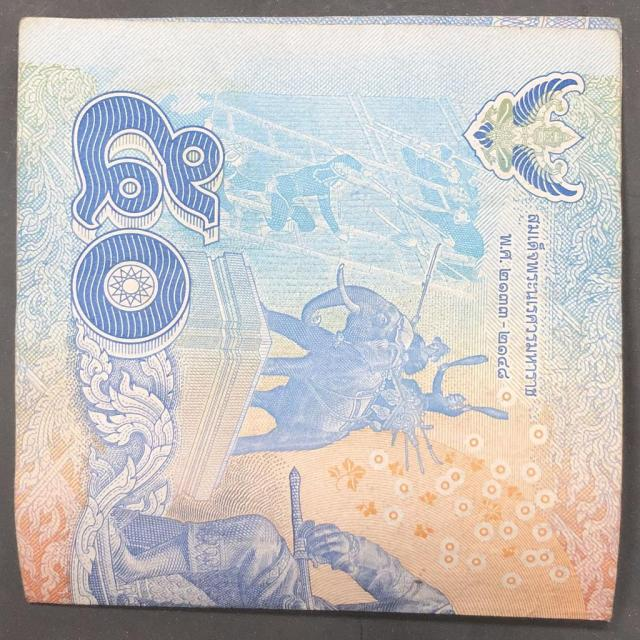THAI50: (14, 16, 622, 621)
